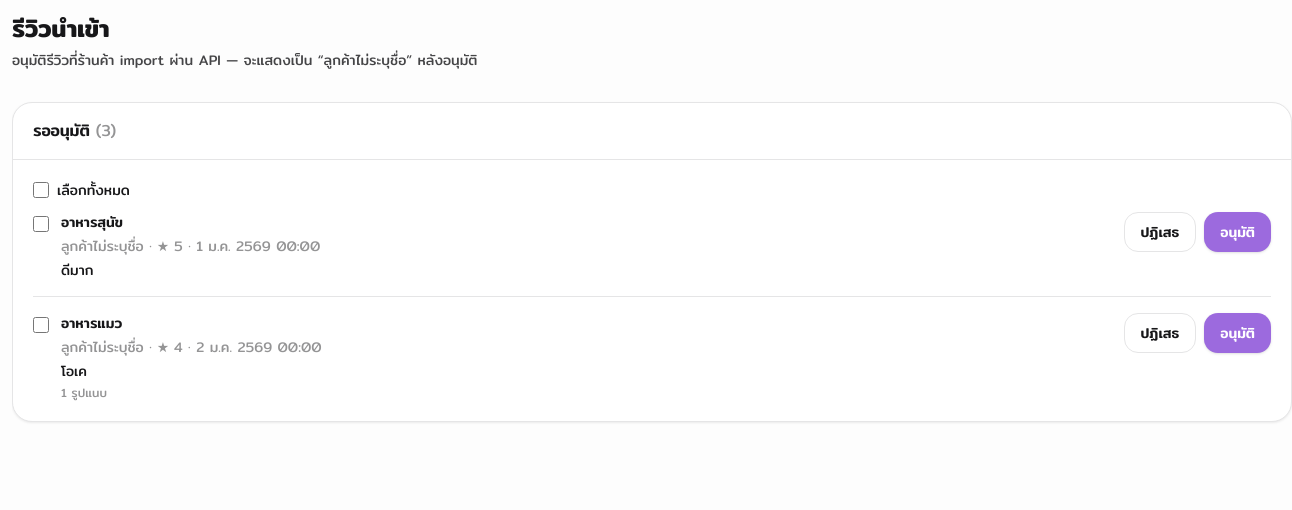
Scenario: AdminReviewsPage batch approve › shows toast and failure messages on partial failure
The image size is (1292, 510).
Click the checkbox named "อาหารสุนัข" at (41, 224), box top-left (33, 216), bottom-right (49, 232)
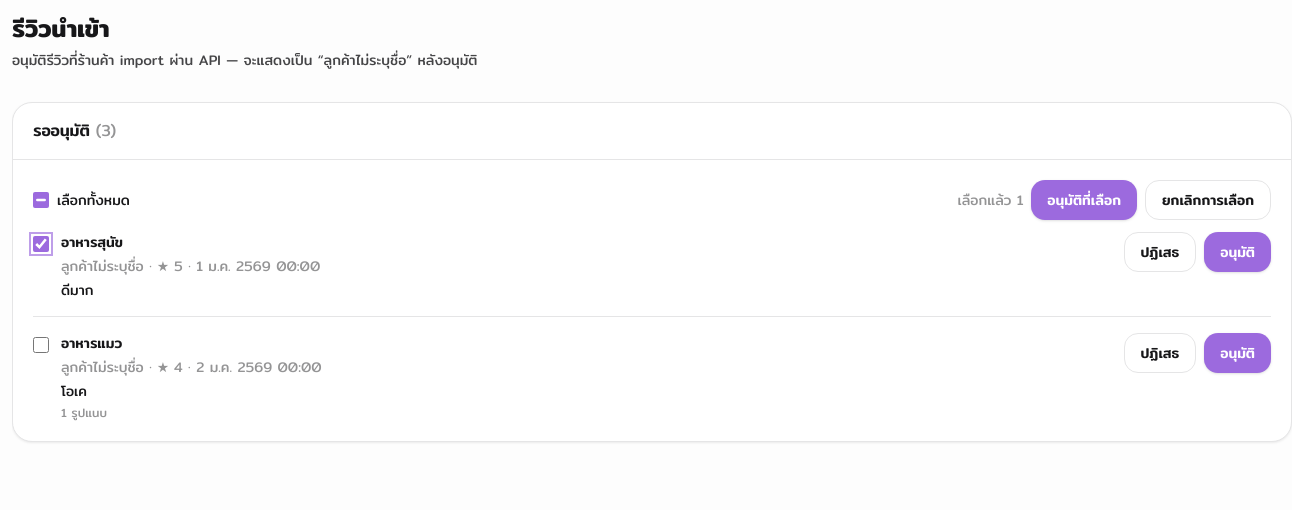
Click the checkbox named "อาหารแมว" at (41, 345), box top-left (33, 337), bottom-right (49, 353)
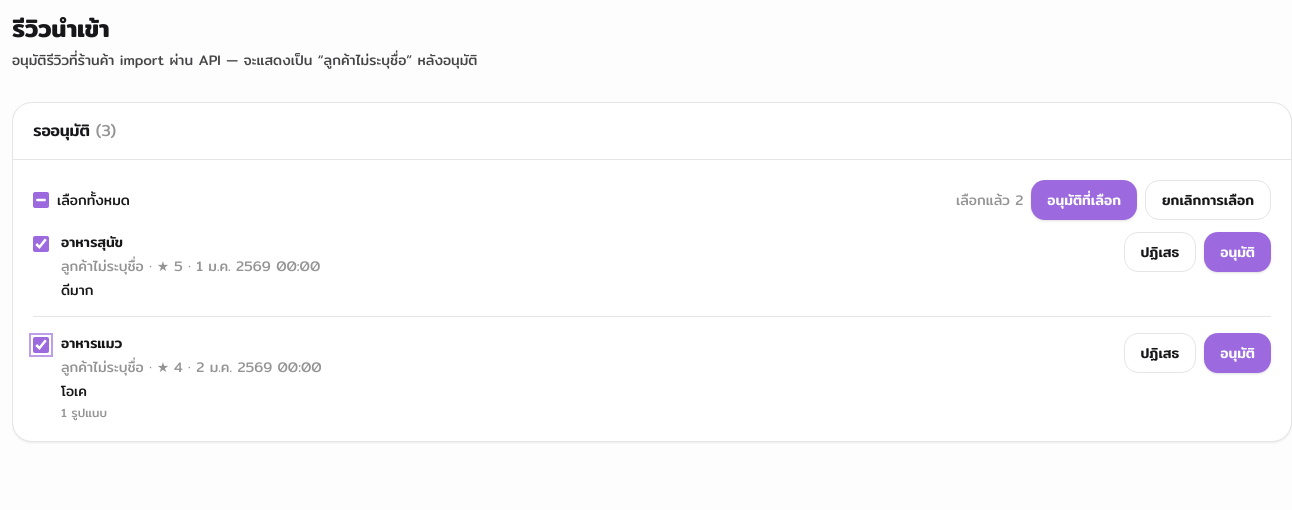
Click the button "อนุมัติที่เลือก" at (1084, 200), box top-left (1031, 180), bottom-right (1137, 220)
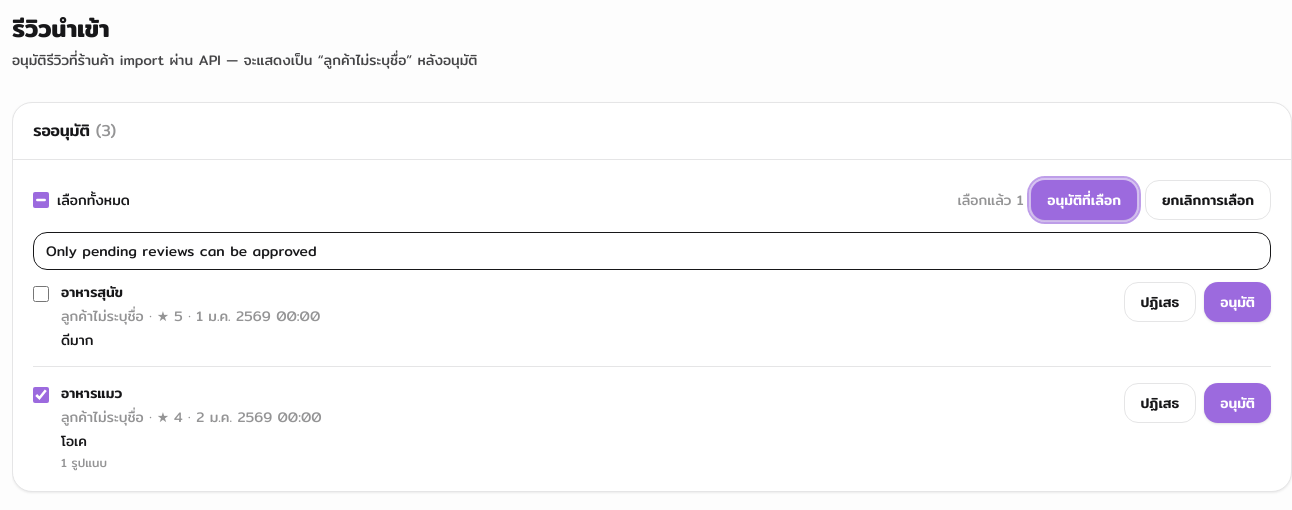
Now the list item "Only pending reviews can be approved" is shown, box top-left (46, 240), bottom-right (317, 262)
